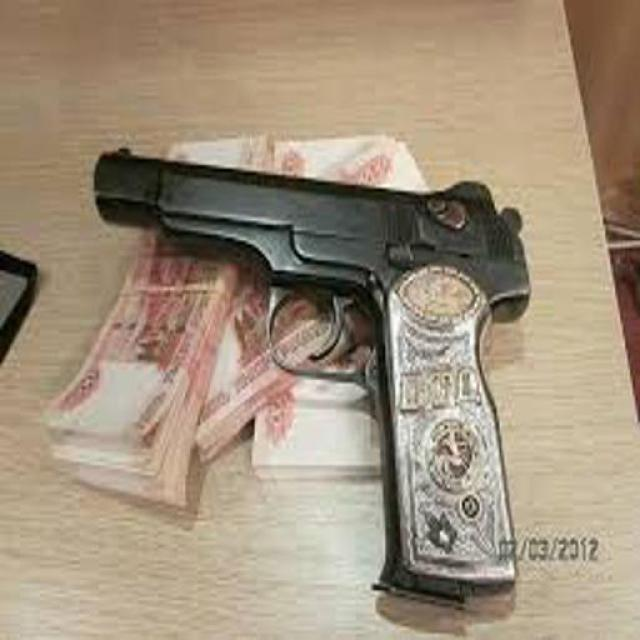pistol: (1, 1, 640, 640), (89, 128, 533, 613)
